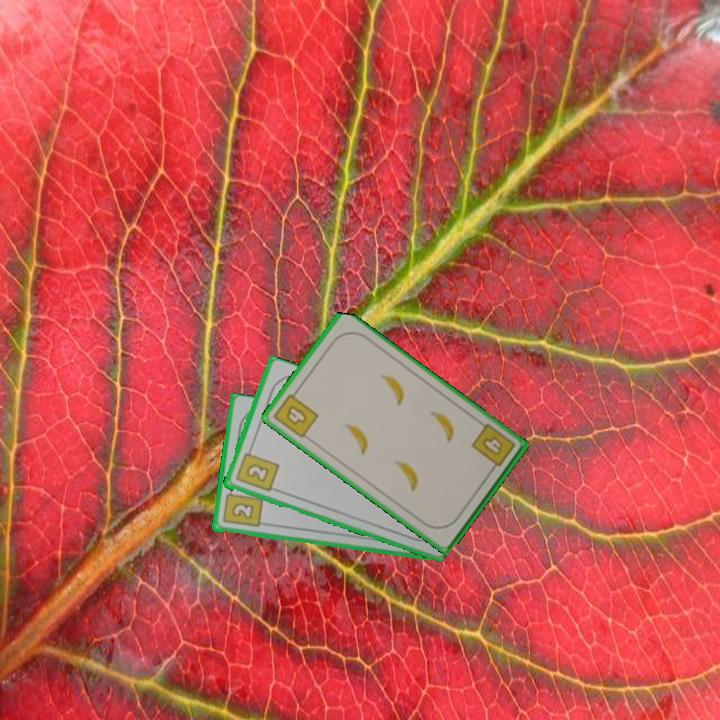2b: (232, 444, 281, 495), (219, 484, 265, 530)
4b: (269, 386, 321, 441), (467, 420, 518, 476)
